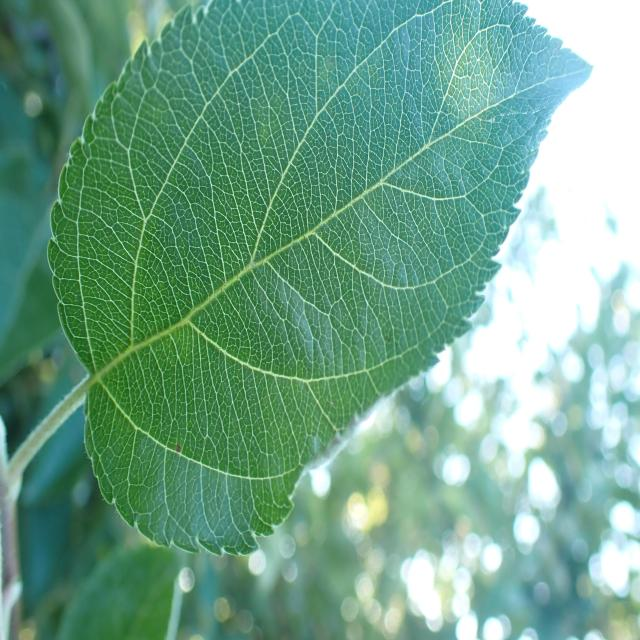healthy: (48, 1, 597, 558)
